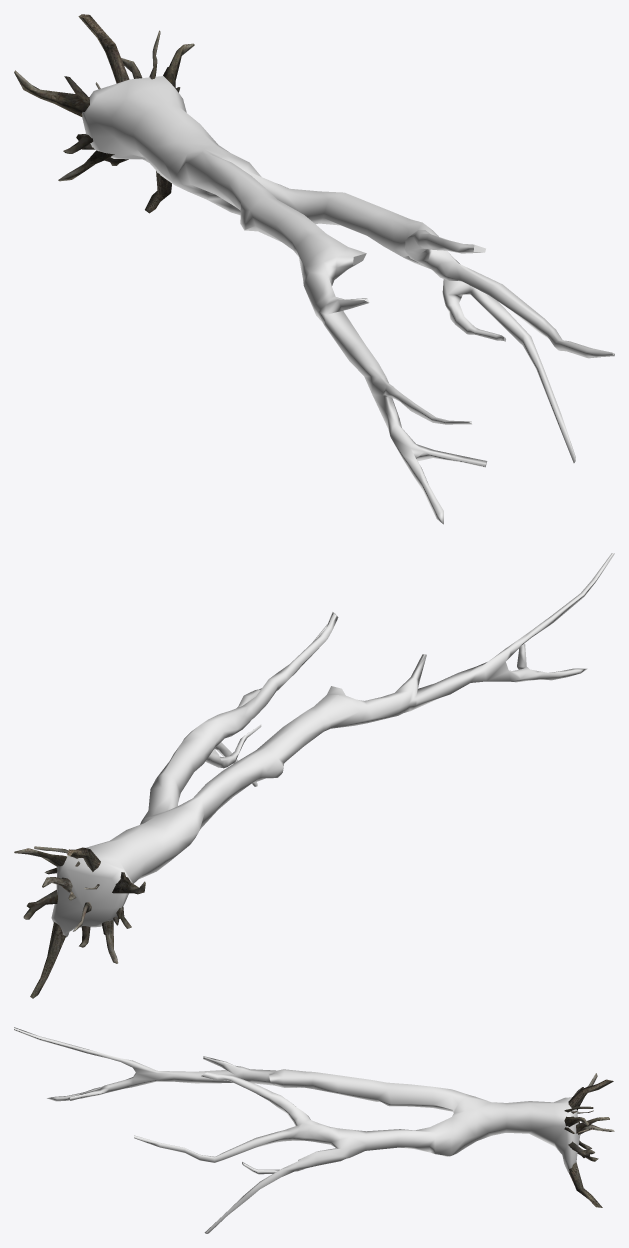
File: hd_env_UNI_073_BurntTree_01.fbx
The picture shows the model from 3 angles, top to bottom: view 1: azimuth 30°, elevation 25°; view 2: azimuth 150°, elevation 25°; view 3: azimuth 270°, elevation 25°; orthographic projection. The views are drawn at different scales.
Visible parts, largest first — view 1: set_0_group_0, set_0_group_1; view 2: set_0_group_0, set_0_group_1; view 3: set_0_group_0, set_0_group_1.
Boxes of the visible parts, x1,y1,x2,y2 form: set_0_group_0: [82, 76, 614, 524]; set_0_group_1: [14, 14, 194, 213]; set_0_group_0: [51, 553, 614, 937]; set_0_group_1: [14, 846, 145, 998]; set_0_group_0: [14, 1027, 580, 1233]; set_0_group_1: [564, 1073, 614, 1207].
Bounding box in the file's own units: 348 × 283 × 1143.
2 materials, 1 textured.
